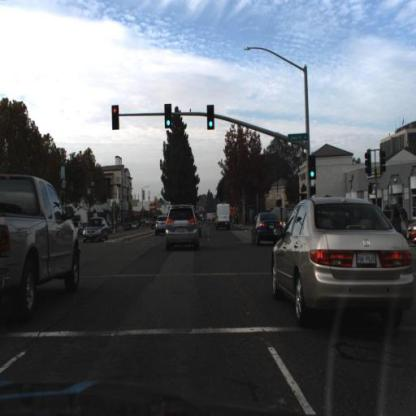car: (270, 194, 416, 332), (1, 164, 84, 334), (162, 200, 202, 256), (250, 208, 286, 251), (82, 215, 113, 248), (212, 198, 236, 238), (154, 210, 169, 242), (216, 204, 232, 227), (154, 212, 168, 238), (133, 222, 141, 231), (124, 224, 131, 234)
pedestrian: (394, 198, 410, 256)
trafficLight: (205, 104, 219, 135), (110, 103, 123, 134), (163, 102, 175, 133), (310, 158, 319, 181)
trafficLight-Green: (306, 154, 318, 183)
